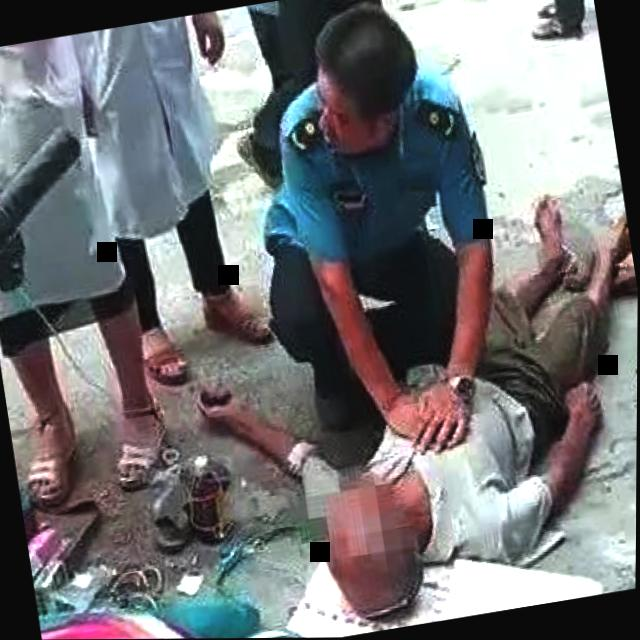Fall-Detected: (169, 163, 639, 639)
